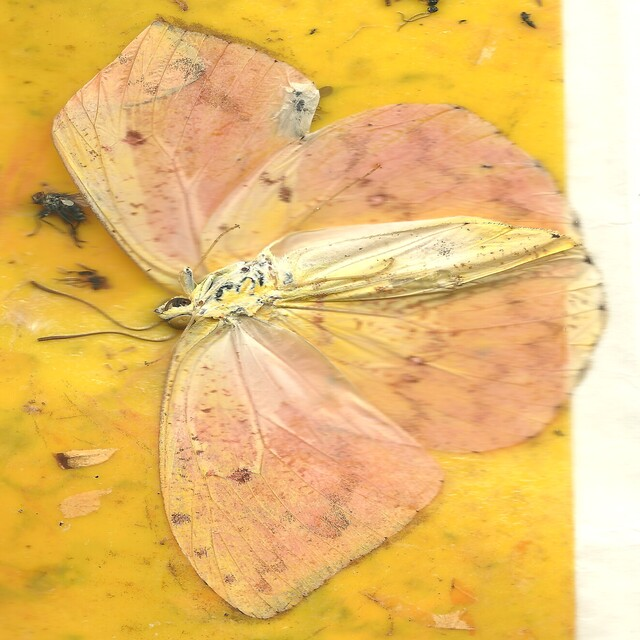Brachycera: (29, 189, 92, 248), (57, 265, 114, 292)
Lepidoptera: (27, 18, 613, 622)
